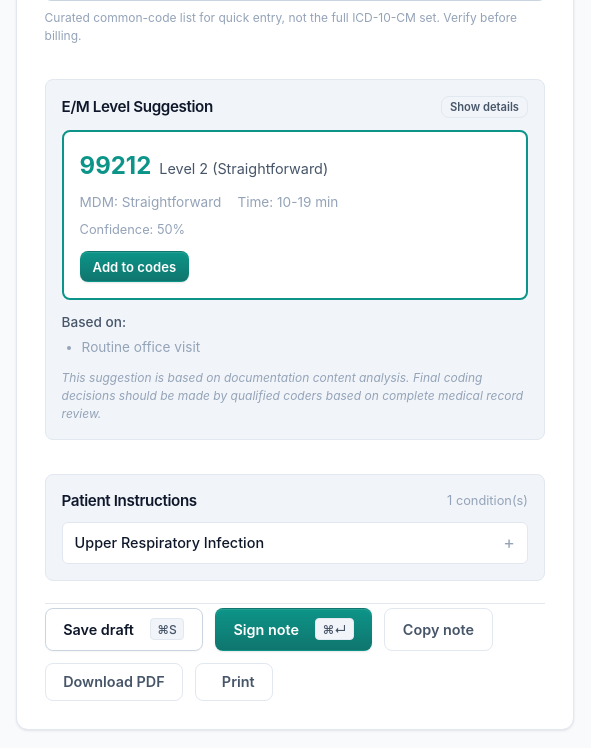
Scenario: NoteReview › copies the formatted note to the clipboard
(page scrolled)
Click the button "Copy note" at (438, 629), box [384, 608, 493, 651]
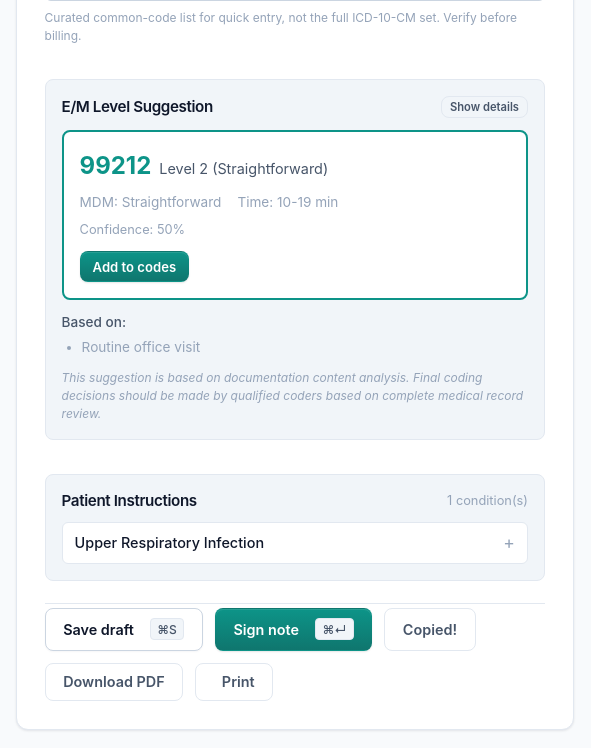
Result: the button "Copied!" is shown at [384, 608, 476, 651]
